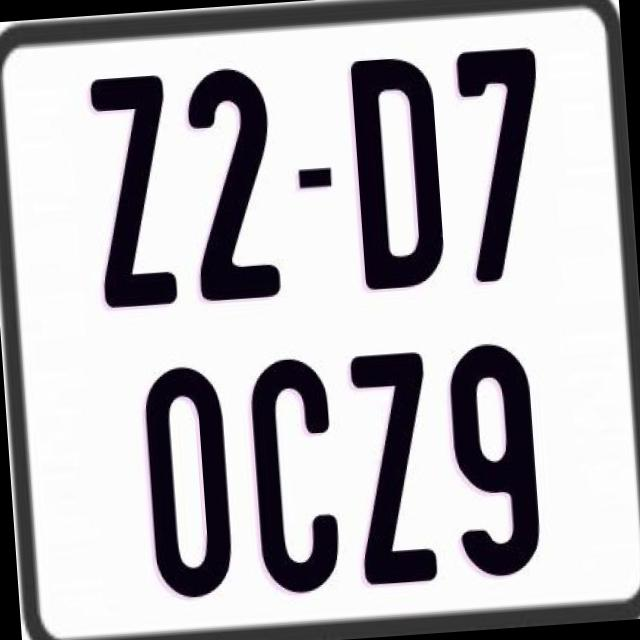0: (142, 358, 240, 602)
2: (180, 61, 278, 300)
7: (454, 43, 554, 280)
9: (442, 336, 542, 582)
C: (248, 356, 346, 602)
D: (347, 56, 445, 298)
Z: (89, 72, 184, 312), (346, 352, 440, 588)
